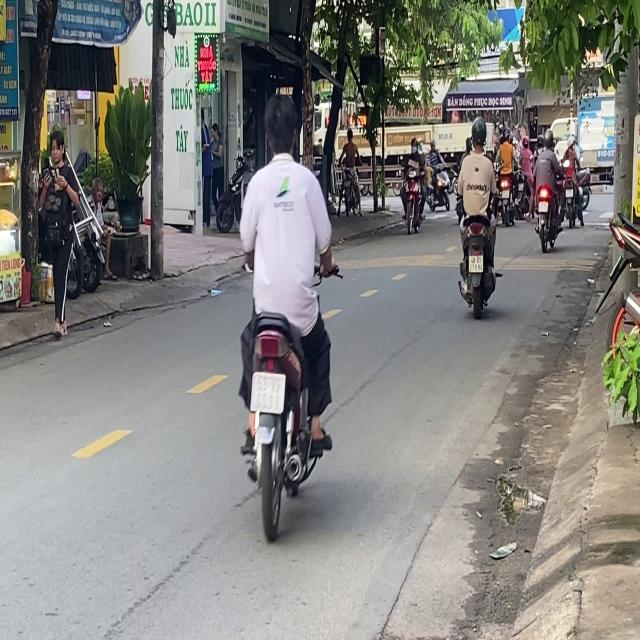helmet: (469, 115, 487, 150)
licenseplate: (231, 88, 340, 534), (454, 115, 501, 315)
motorcyclist: (262, 90, 301, 162)
nohelmet: (251, 372, 284, 411), (468, 254, 483, 272)
